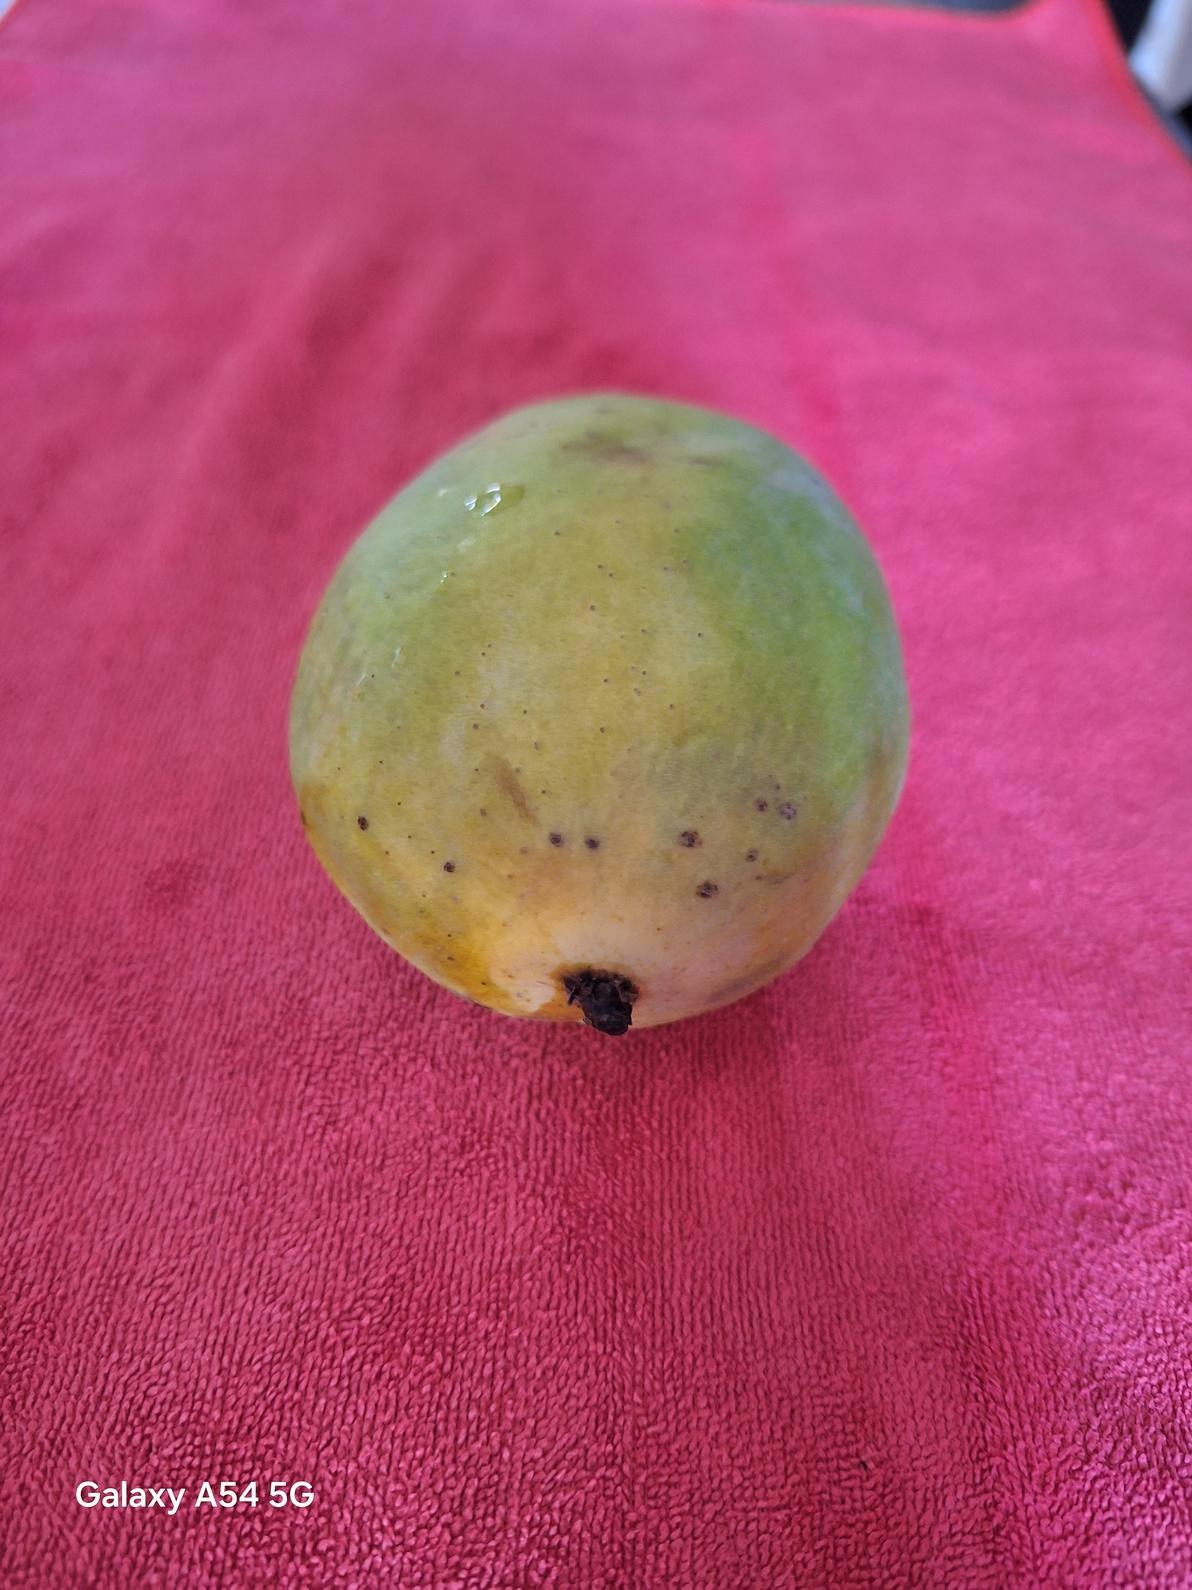mango: (285, 388, 912, 1035)
